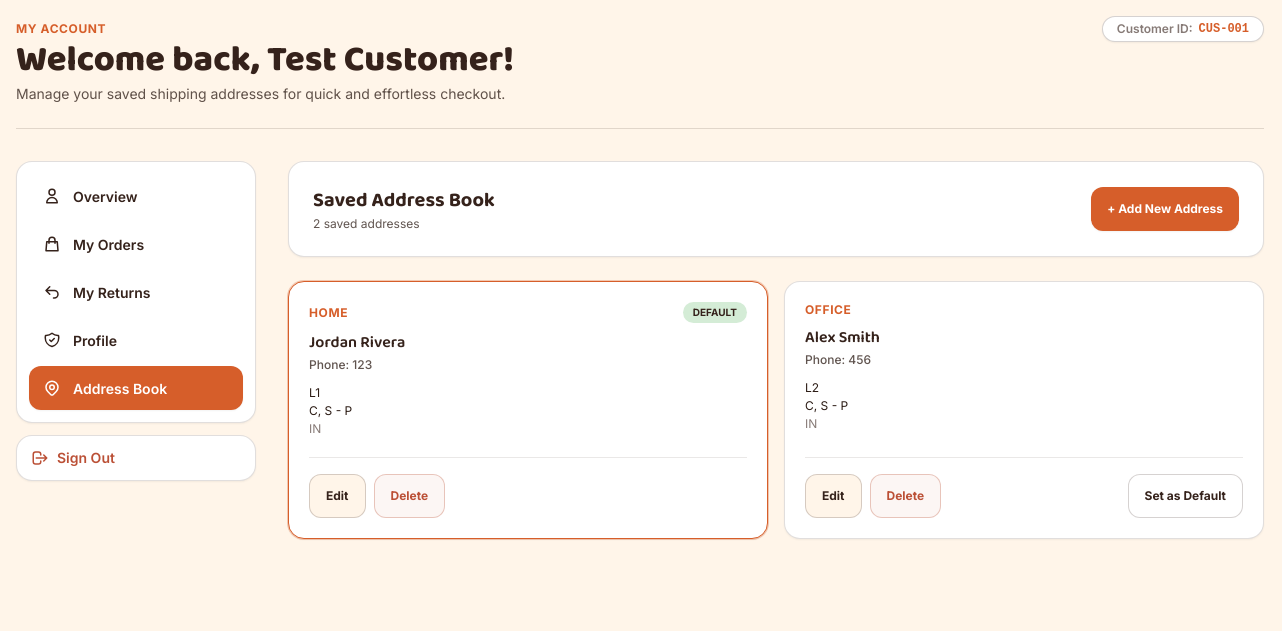
Test: Address Book Storefront Client Tests › 3. Setting default address re-fetches list and trusts server state
Click the button "Set as Default": (1185, 496) [1128,474,1243,518]
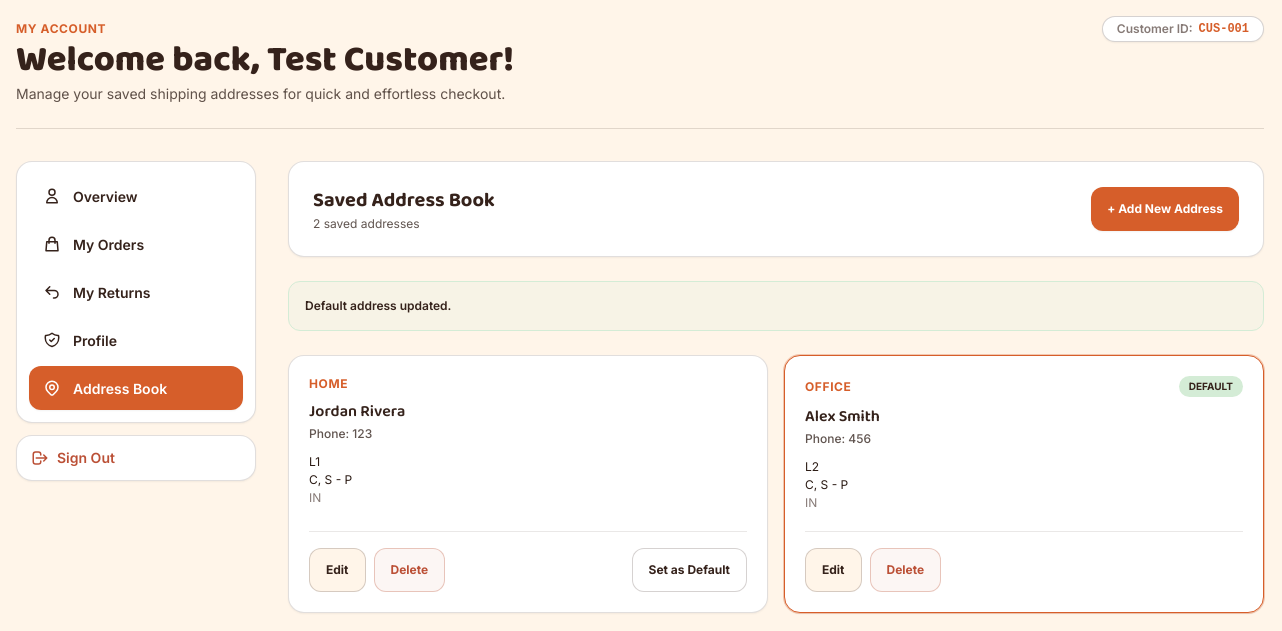
Expected: the text "Default address updated." is shown, [288,281,1264,331]
